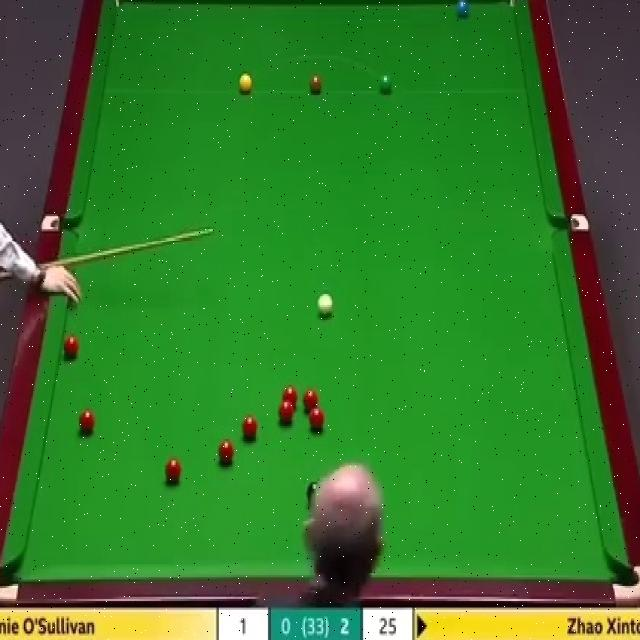black-ball: (305, 480, 324, 511)
blue-ball: (454, 0, 470, 22)
brown-ball: (309, 75, 323, 96)
green-ball: (378, 74, 393, 97)
red-ball: (76, 405, 96, 438), (217, 440, 236, 470), (163, 457, 182, 483), (277, 401, 295, 426), (242, 417, 259, 443), (62, 334, 78, 361), (309, 406, 325, 431), (280, 386, 298, 408), (302, 390, 319, 410)
white-ball: (314, 290, 336, 321)
yellow-ball: (239, 73, 253, 95)
